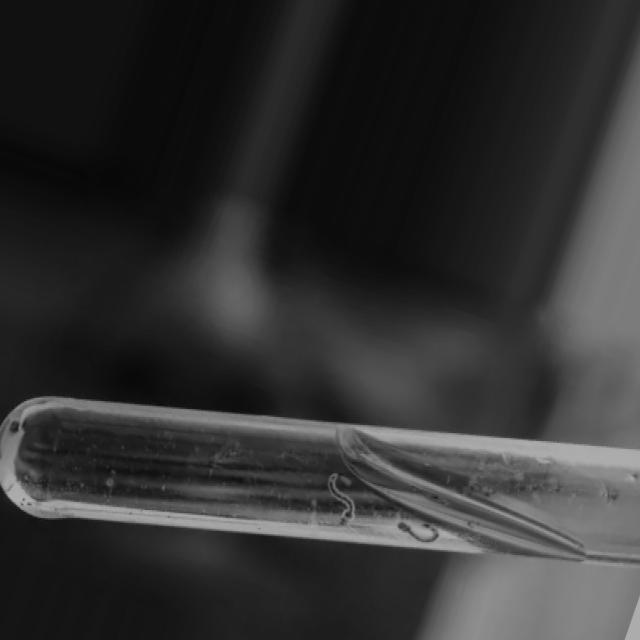larvas: (327, 471, 353, 528), (398, 518, 438, 546)
